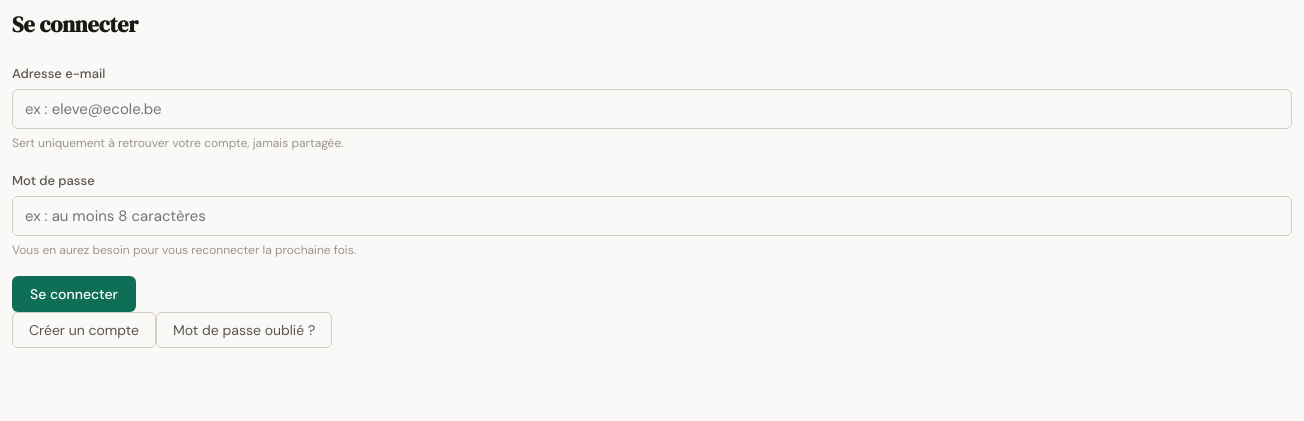
Test: Auth › affiche un message explicite en cas de trop de tentatives
Type "eleve@example.com" into the field labelled "Adresse e-mail" at (652, 110), box [12, 90, 1292, 130]
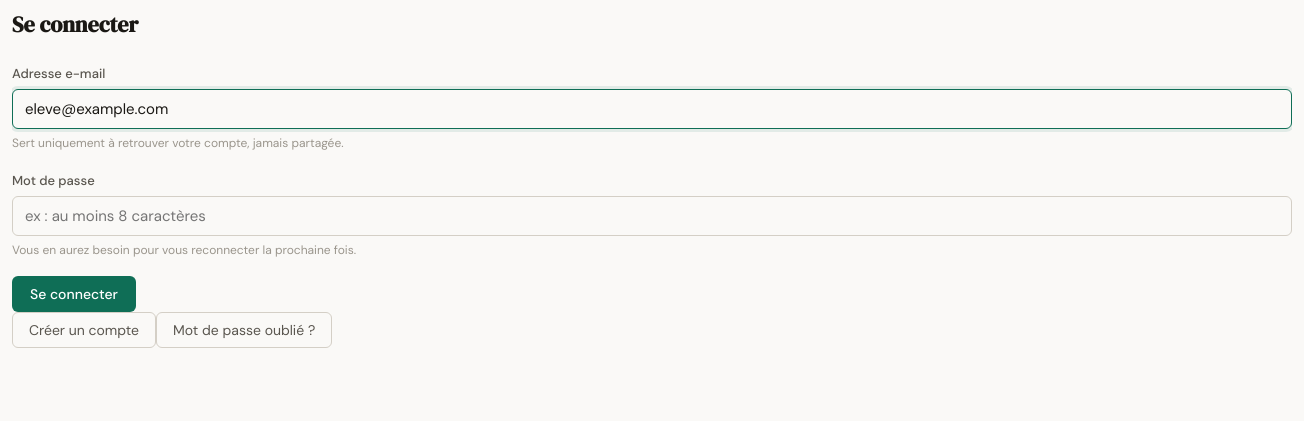
Type "motdepasse123" into the password field labelled "Mot de passe" at (652, 216), box [12, 196, 1292, 236]
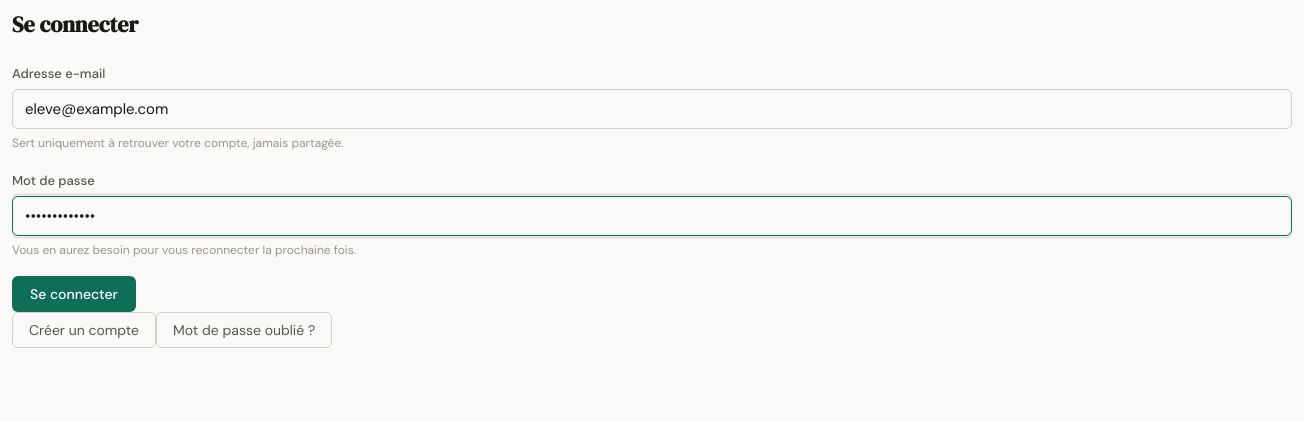
Click the button "Se connecter" at (74, 294), box [12, 276, 136, 312]
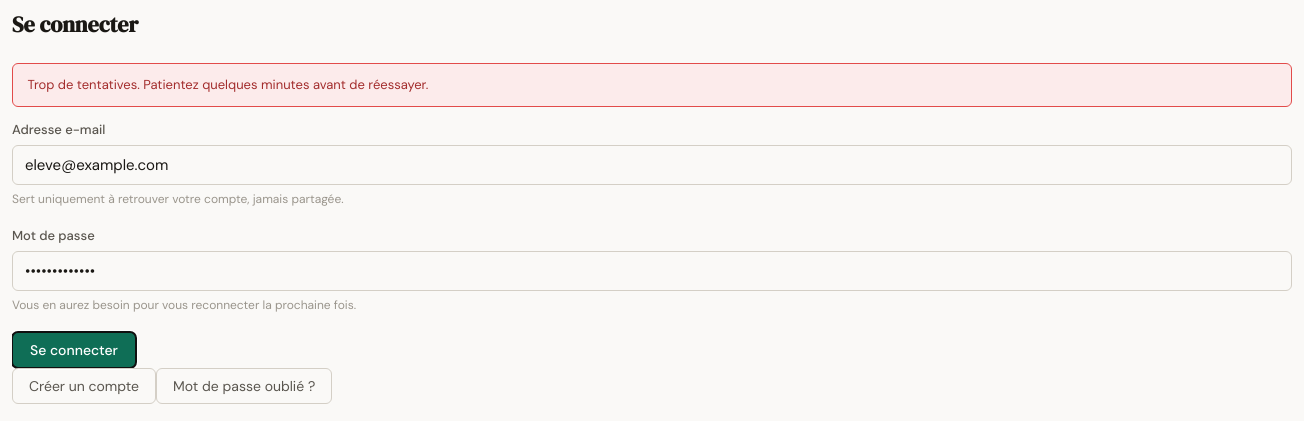
Expected: the text "Trop de tentatives" is shown, [27, 76, 428, 93]
